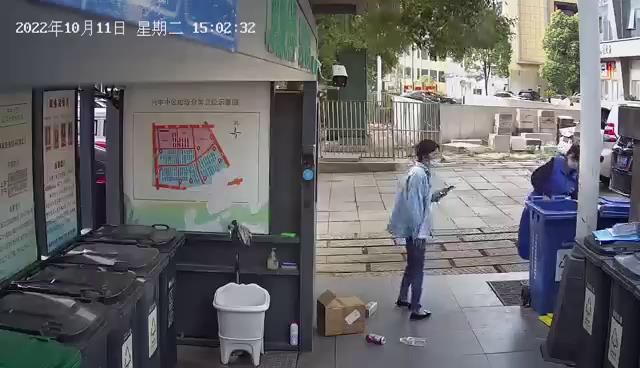lvzhipin: (363, 331, 387, 347)
suliaozhipin: (397, 334, 430, 349), (364, 300, 380, 317)
worker: (384, 136, 460, 324)
zhizhipin: (314, 287, 370, 339)
